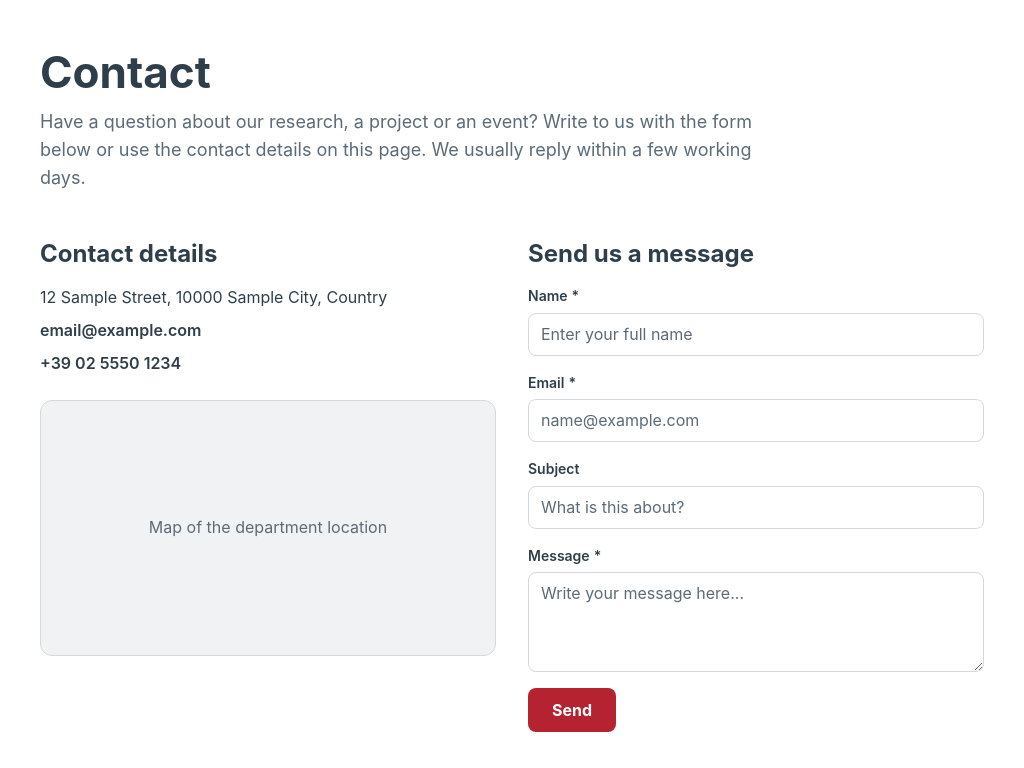
Test: Contact form validation (en) › rejects the email "plainaddress"
Type "plainaddress" into the field labelled "Email *" at point(756, 421), box [528,399,984,442]
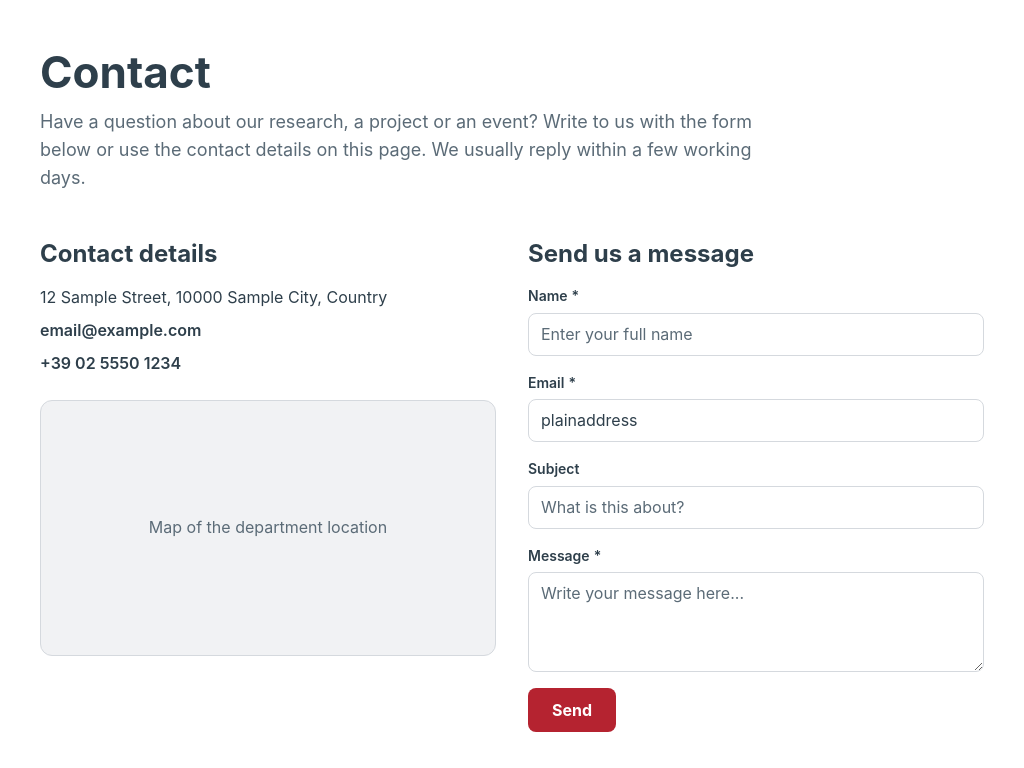
Leave the field labelled "Email *", box [528,399,984,442]
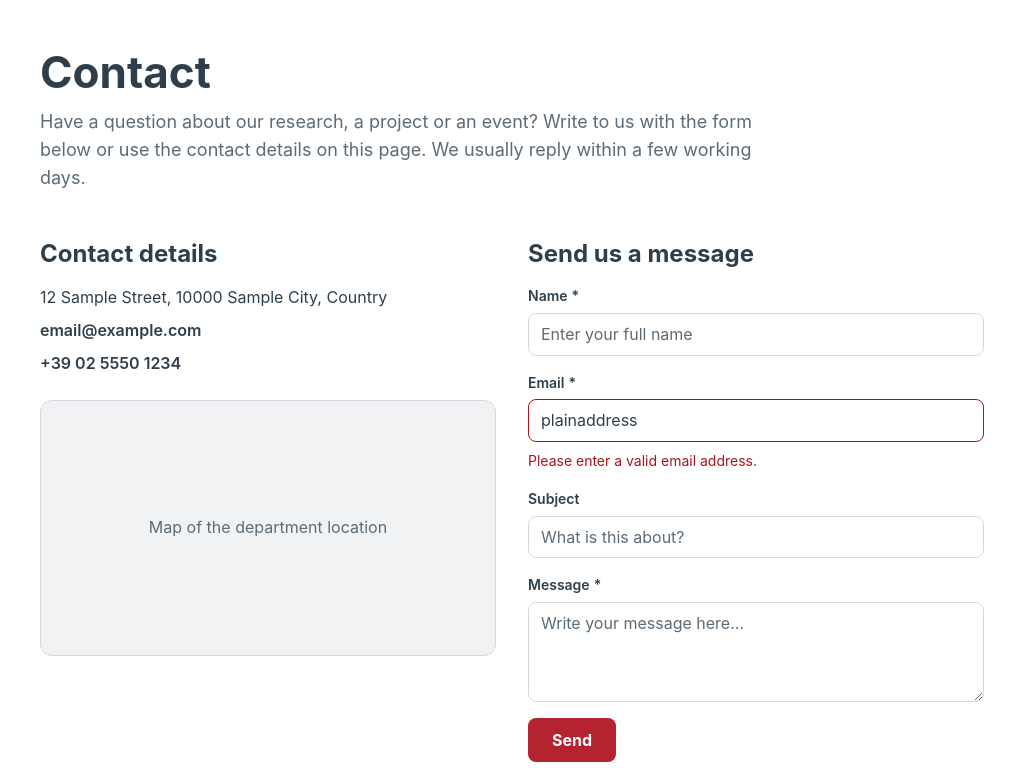
Expected: the text "Please enter a valid email address." is shown, [528,452,757,469]
